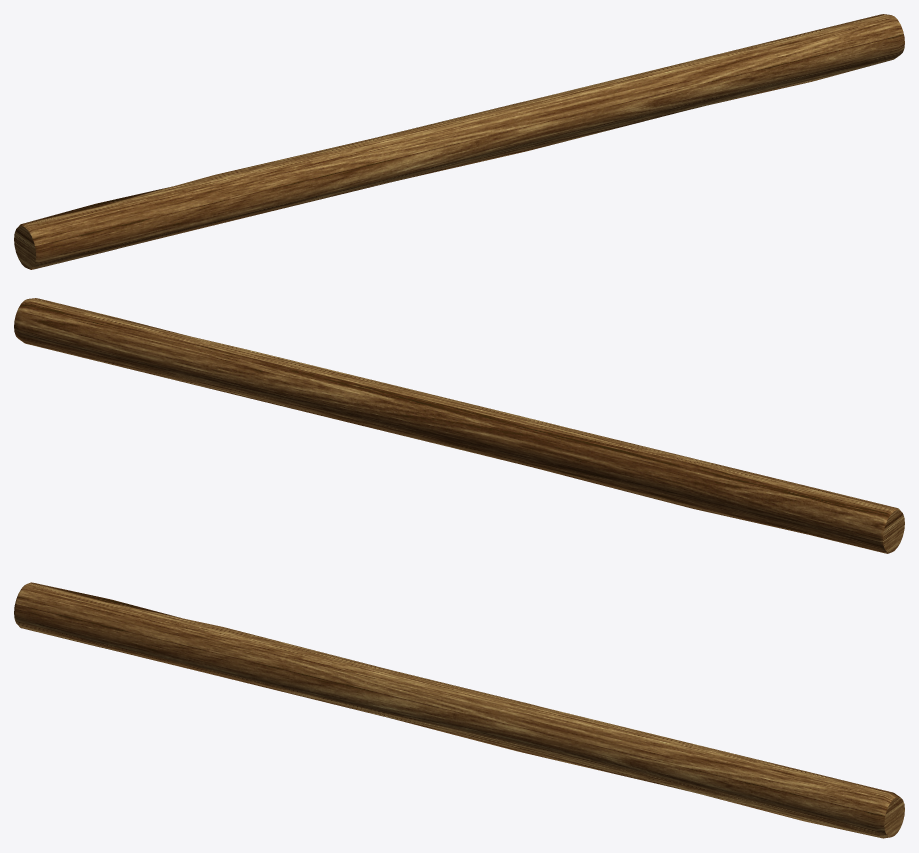
Rendered from palo.fbx.
3 views of the same model, one above another, from view 1: azimuth 30°, elevation 25°; view 2: azimuth 150°, elevation 25°; view 3: azimuth 330°, elevation 25° (orthographic).
Parts seen in each view (by area): view 1: palo; view 2: palo; view 3: palo.
Boxes of the visible parts, box(x1,y1,x2,y2) form: palo: box(14, 14, 904, 269); palo: box(14, 298, 904, 553); palo: box(14, 582, 904, 838).
Size of the model in its own units: 52.04 by 2.56 by 2.63.
